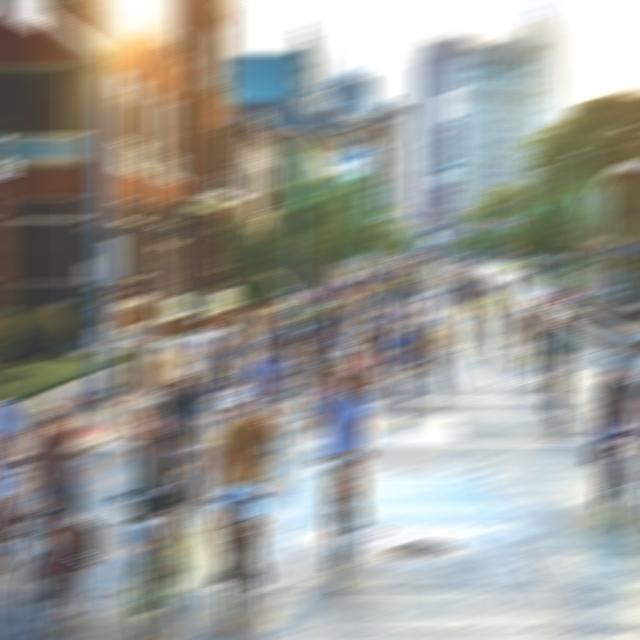With Helmet: (217, 388, 256, 426), (600, 351, 638, 388), (250, 333, 280, 359)
Without Helmet: (26, 400, 68, 446), (324, 361, 362, 398), (132, 400, 169, 438), (547, 308, 576, 334)
